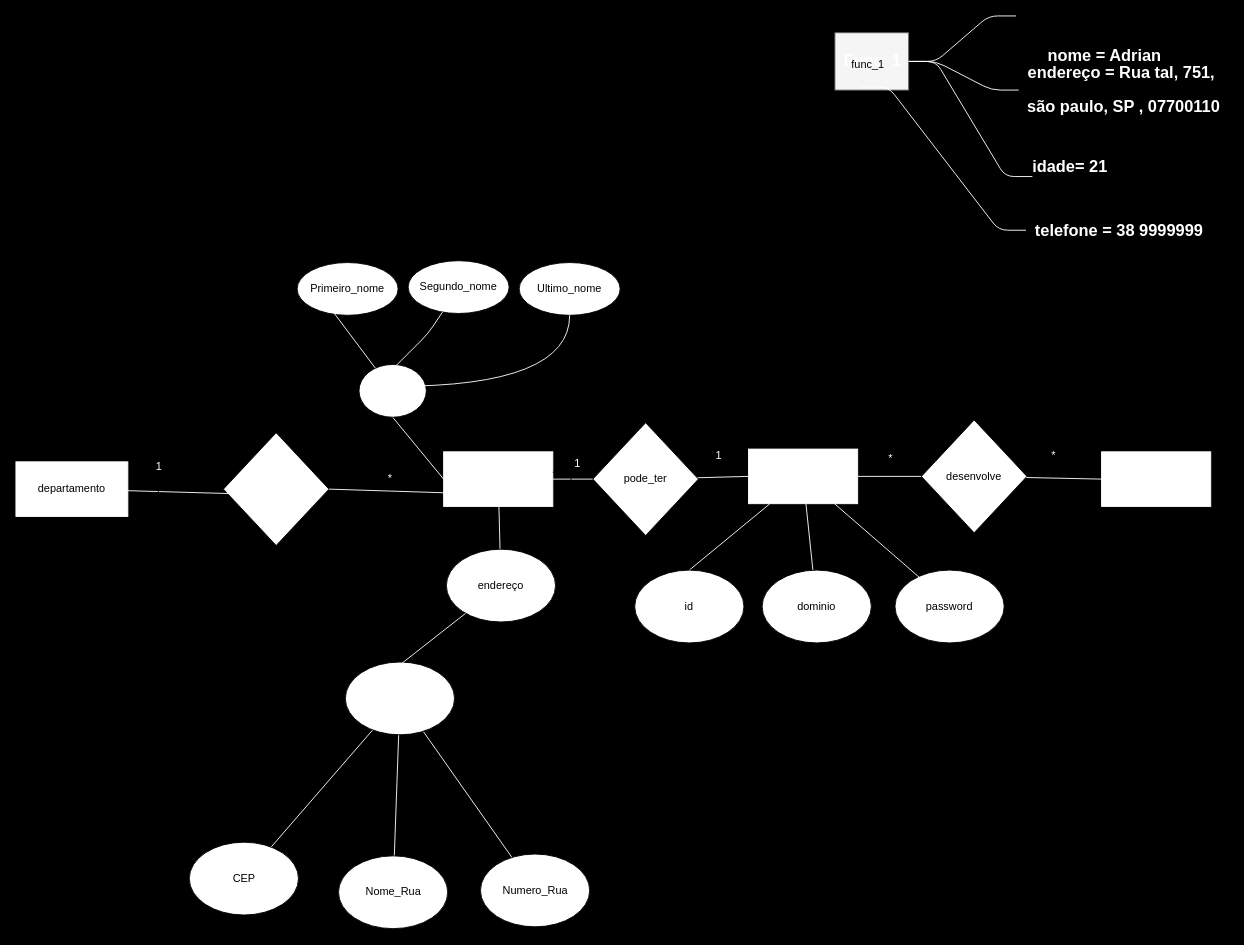
The diagram is 1244 pixels wide and 945 high, and some of its shapes have lost their labels. Here are the shapes that lost their labels. From the top down, the box of each, then its label:
(358, 364, 426, 417): nome
(222, 432, 329, 546): trabalha_para
(443, 451, 553, 506): Funcionario
(748, 448, 858, 504): usuario
(1101, 451, 1211, 506): projetos
(344, 661, 455, 735): logradouro
